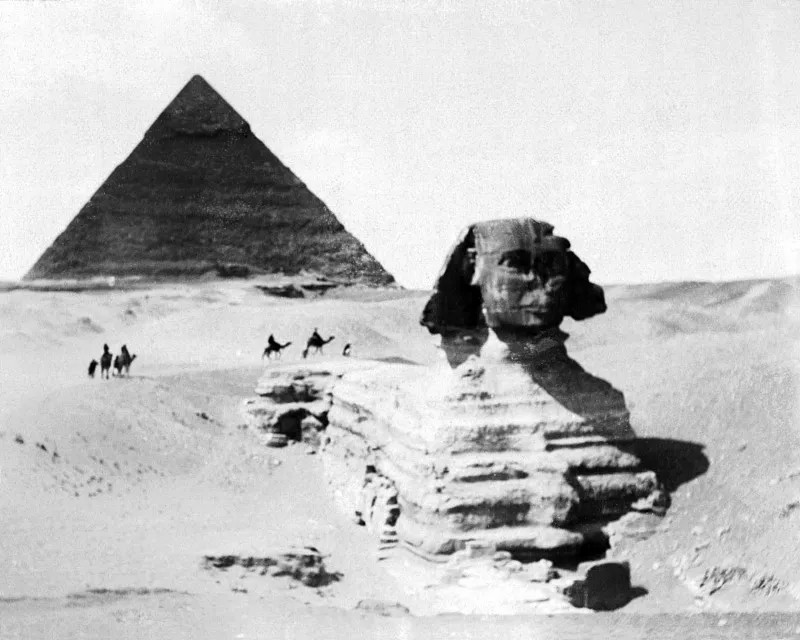Pyramid: (19, 74, 398, 287)
